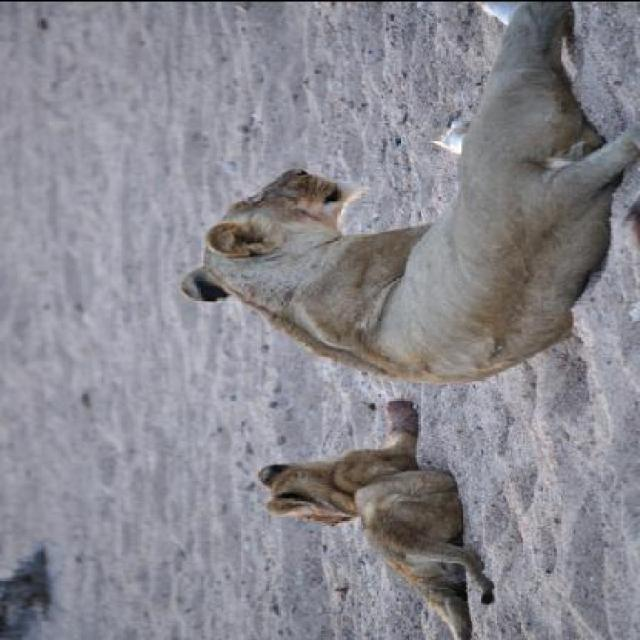Lion: (147, 5, 638, 388), (232, 391, 570, 638)
